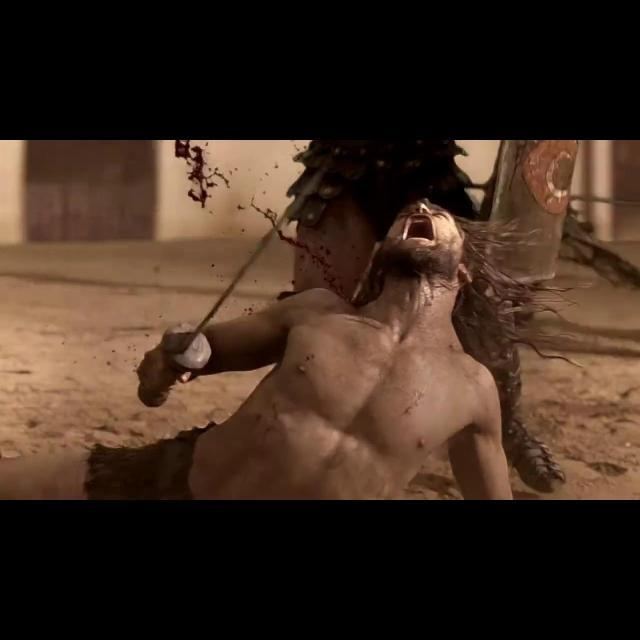blood: (251, 196, 360, 299), (174, 140, 229, 207)
